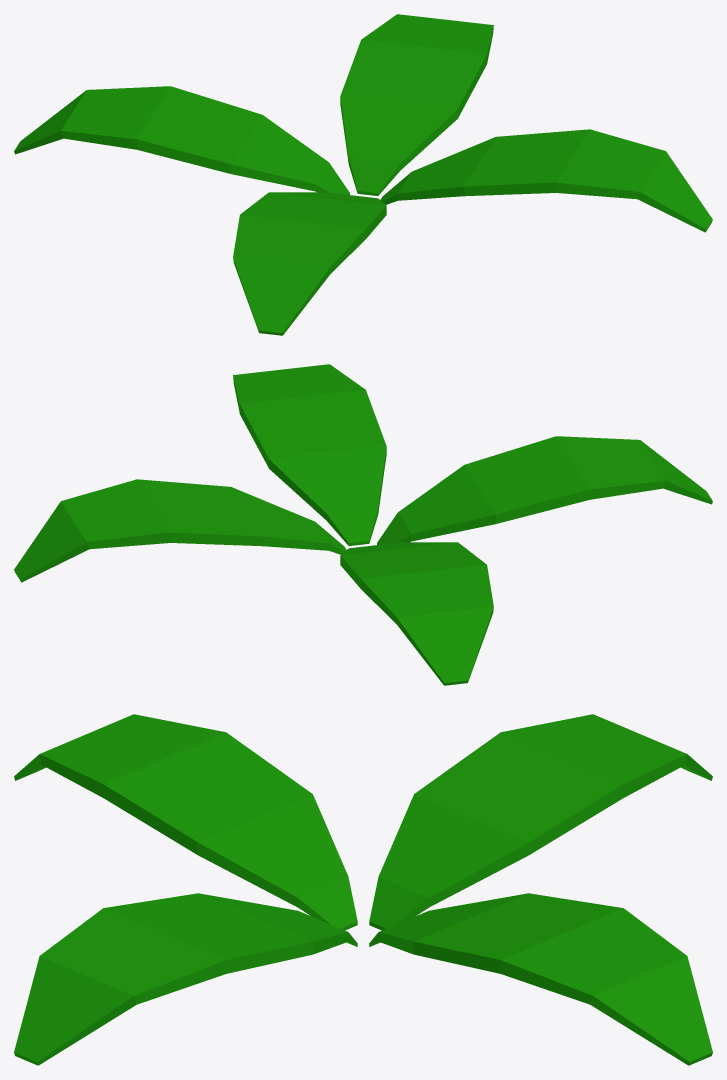
The model's file is plant_1.gltf.
3 views of the same model, one above another, from view 1: azimuth 30°, elevation 25°; view 2: azimuth 150°, elevation 25°; view 3: azimuth 270°, elevation 25° (orthographic). The views are drawn at different scales.
Visible parts, largest first — view 1: Plant_1; view 2: Plant_1; view 3: Plant_1.
Part boxes in pixels (left/top/right/bottom): Plant_1: left=14, top=14, right=712, bottom=335; Plant_1: left=14, top=364, right=712, bottom=685; Plant_1: left=14, top=714, right=712, bottom=1065.
Size of the model in its own units: 137 by 19.45 by 137.
